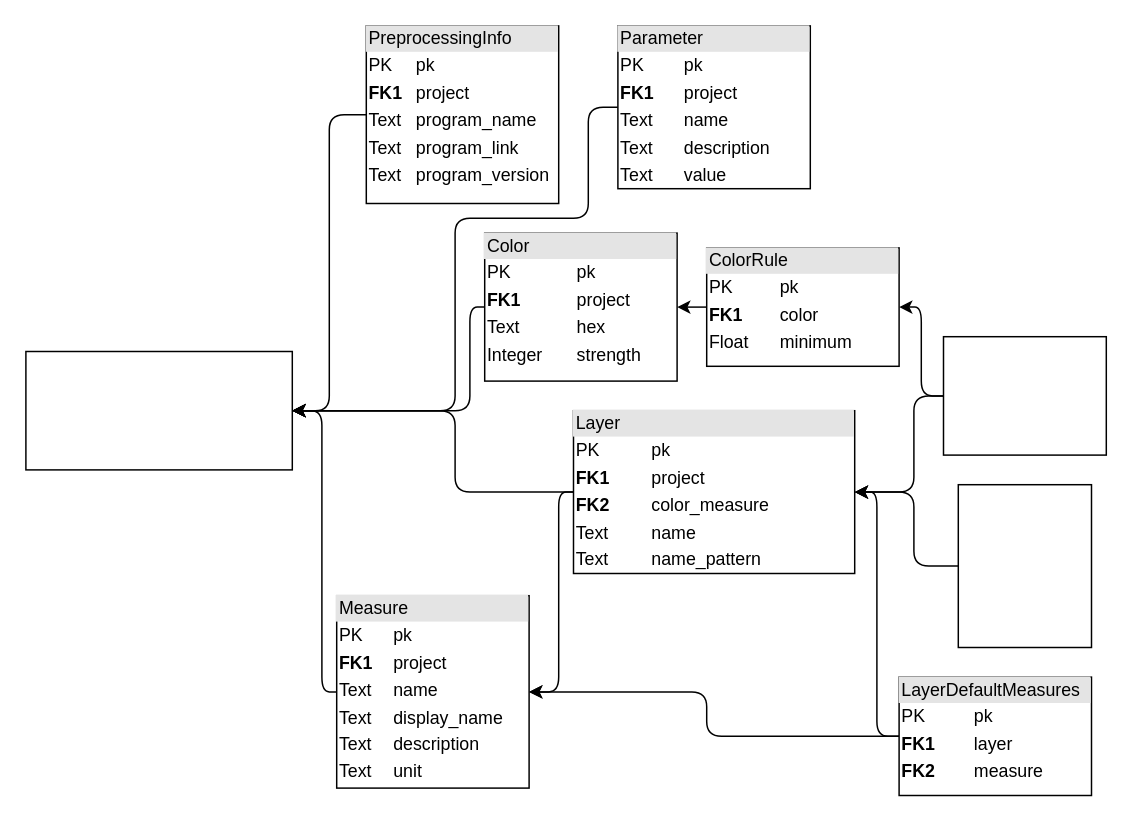
Image size: 1132x821. Some labels were removed from this diagram. Each missing label, with the box of its shape:
Building PK pk FK1 layer Text path Integer lat Integer lon: (957, 483, 1092, 648)
LayerColorRules PK pk FK1 layer FK2 color_rule: (942, 335, 1106, 455)
Project PK pk Text name Text data_source: (24, 350, 292, 470)
